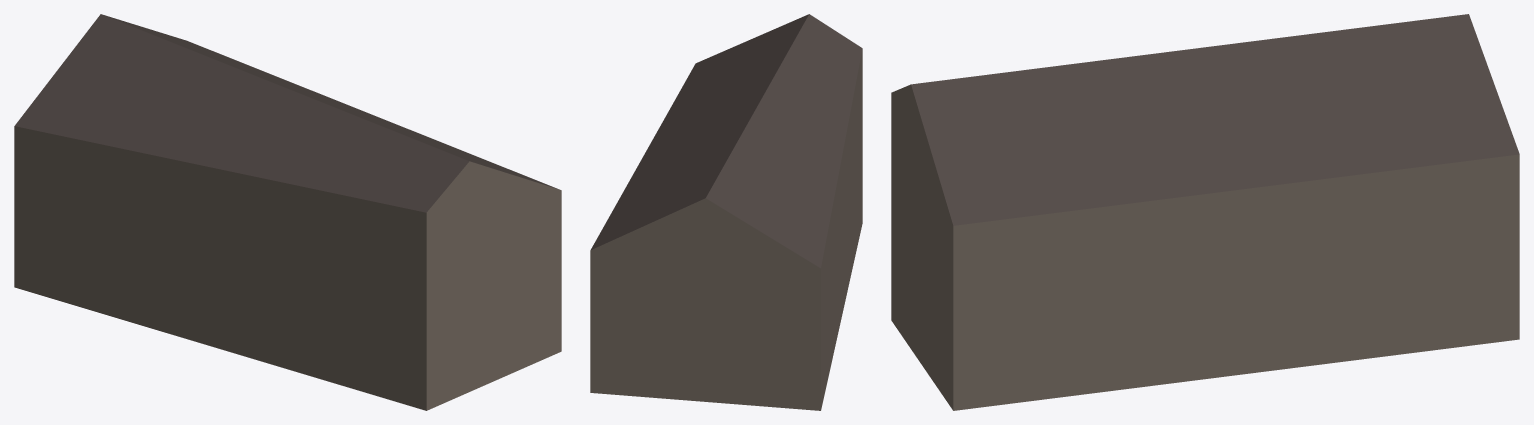
The picture shows the model from 3 angles, left to right: view 1: azimuth 30°, elevation 25°; view 2: azimuth 150°, elevation 25°; view 3: azimuth 270°, elevation 25°; orthographic projection. The views are drawn at different scales.
Parts seen in each view (by area): view 1: HP-w378107177; view 2: HP-w378107177; view 3: HP-w378107177.
Part boxes in pixels (<box>): HP-w378107177: <box>14,14,561,410</box>; HP-w378107177: <box>590,14,862,410</box>; HP-w378107177: <box>891,14,1519,410</box>.
Bounding box in the file's own units: 20.11 × 12.87 × 27.7.
